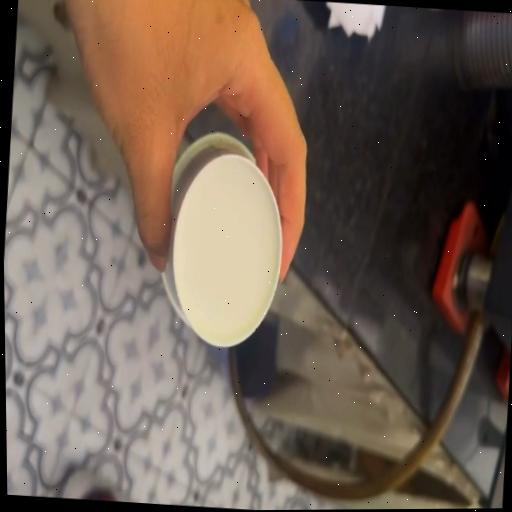Ly_giay: (162, 133, 281, 346)
